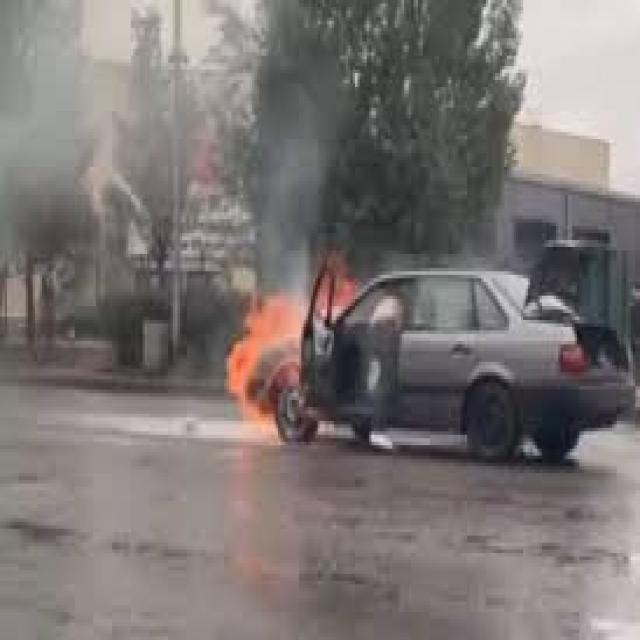fire: (217, 282, 360, 452)
smoke: (2, 4, 313, 306)
